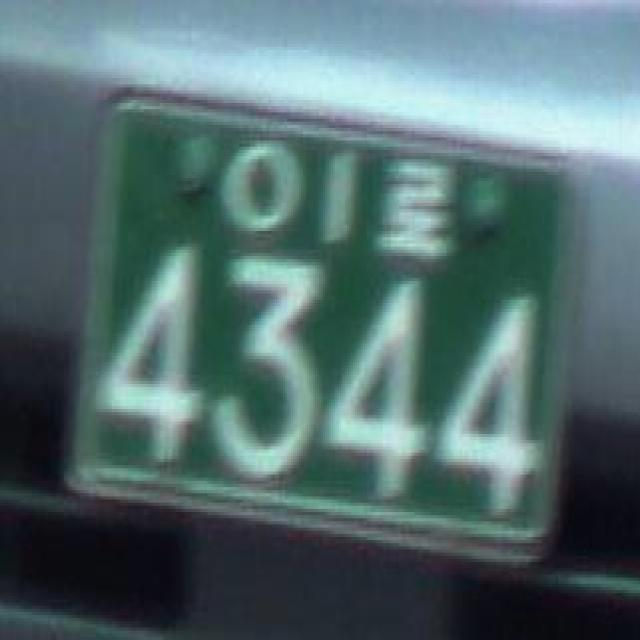illegal_plate: (72, 72, 585, 580)
